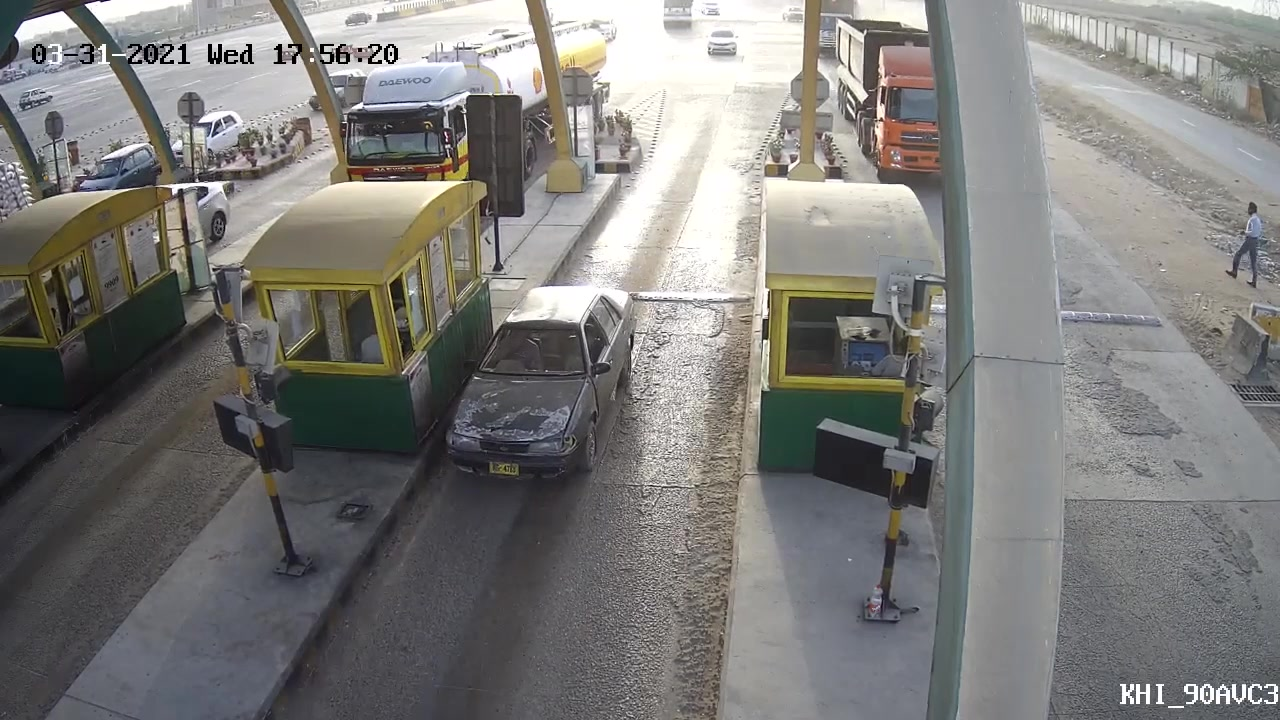F1: (437, 281, 642, 485)
